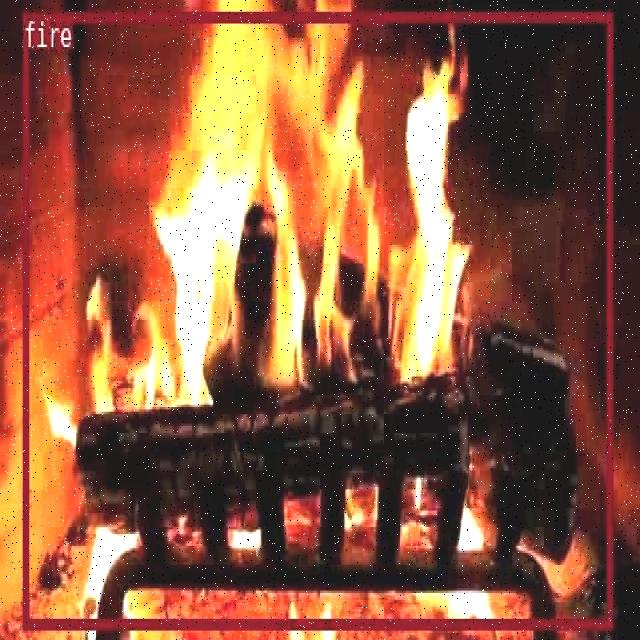fire: (22, 9, 612, 626)
